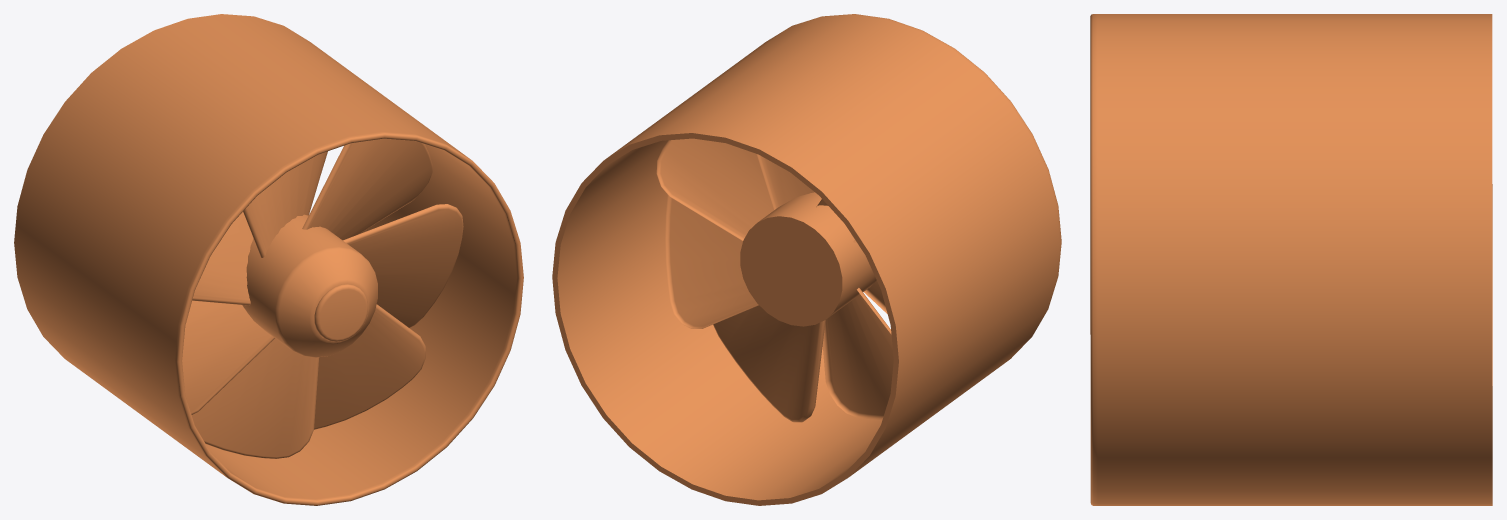
File: WallDetails.fbx
The picture shows the model from 3 angles, left to right: view 1: azimuth 30°, elevation 25°; view 2: azimuth 150°, elevation 25°; view 3: azimuth 270°, elevation 25°; orthographic projection. The views are drawn at different scales.
Visible parts, largest first — view 1: SM_WallDetails; view 2: SM_WallDetails; view 3: SM_WallDetails.
Boxes of the visible parts, x1,y1,x2,y2 form: SM_WallDetails: (14,14,523,505); SM_WallDetails: (552,14,1061,505); SM_WallDetails: (1090,14,1492,505).
Bounding box in the file's own units: 0.5319 × 0.5326 × 0.4352.
